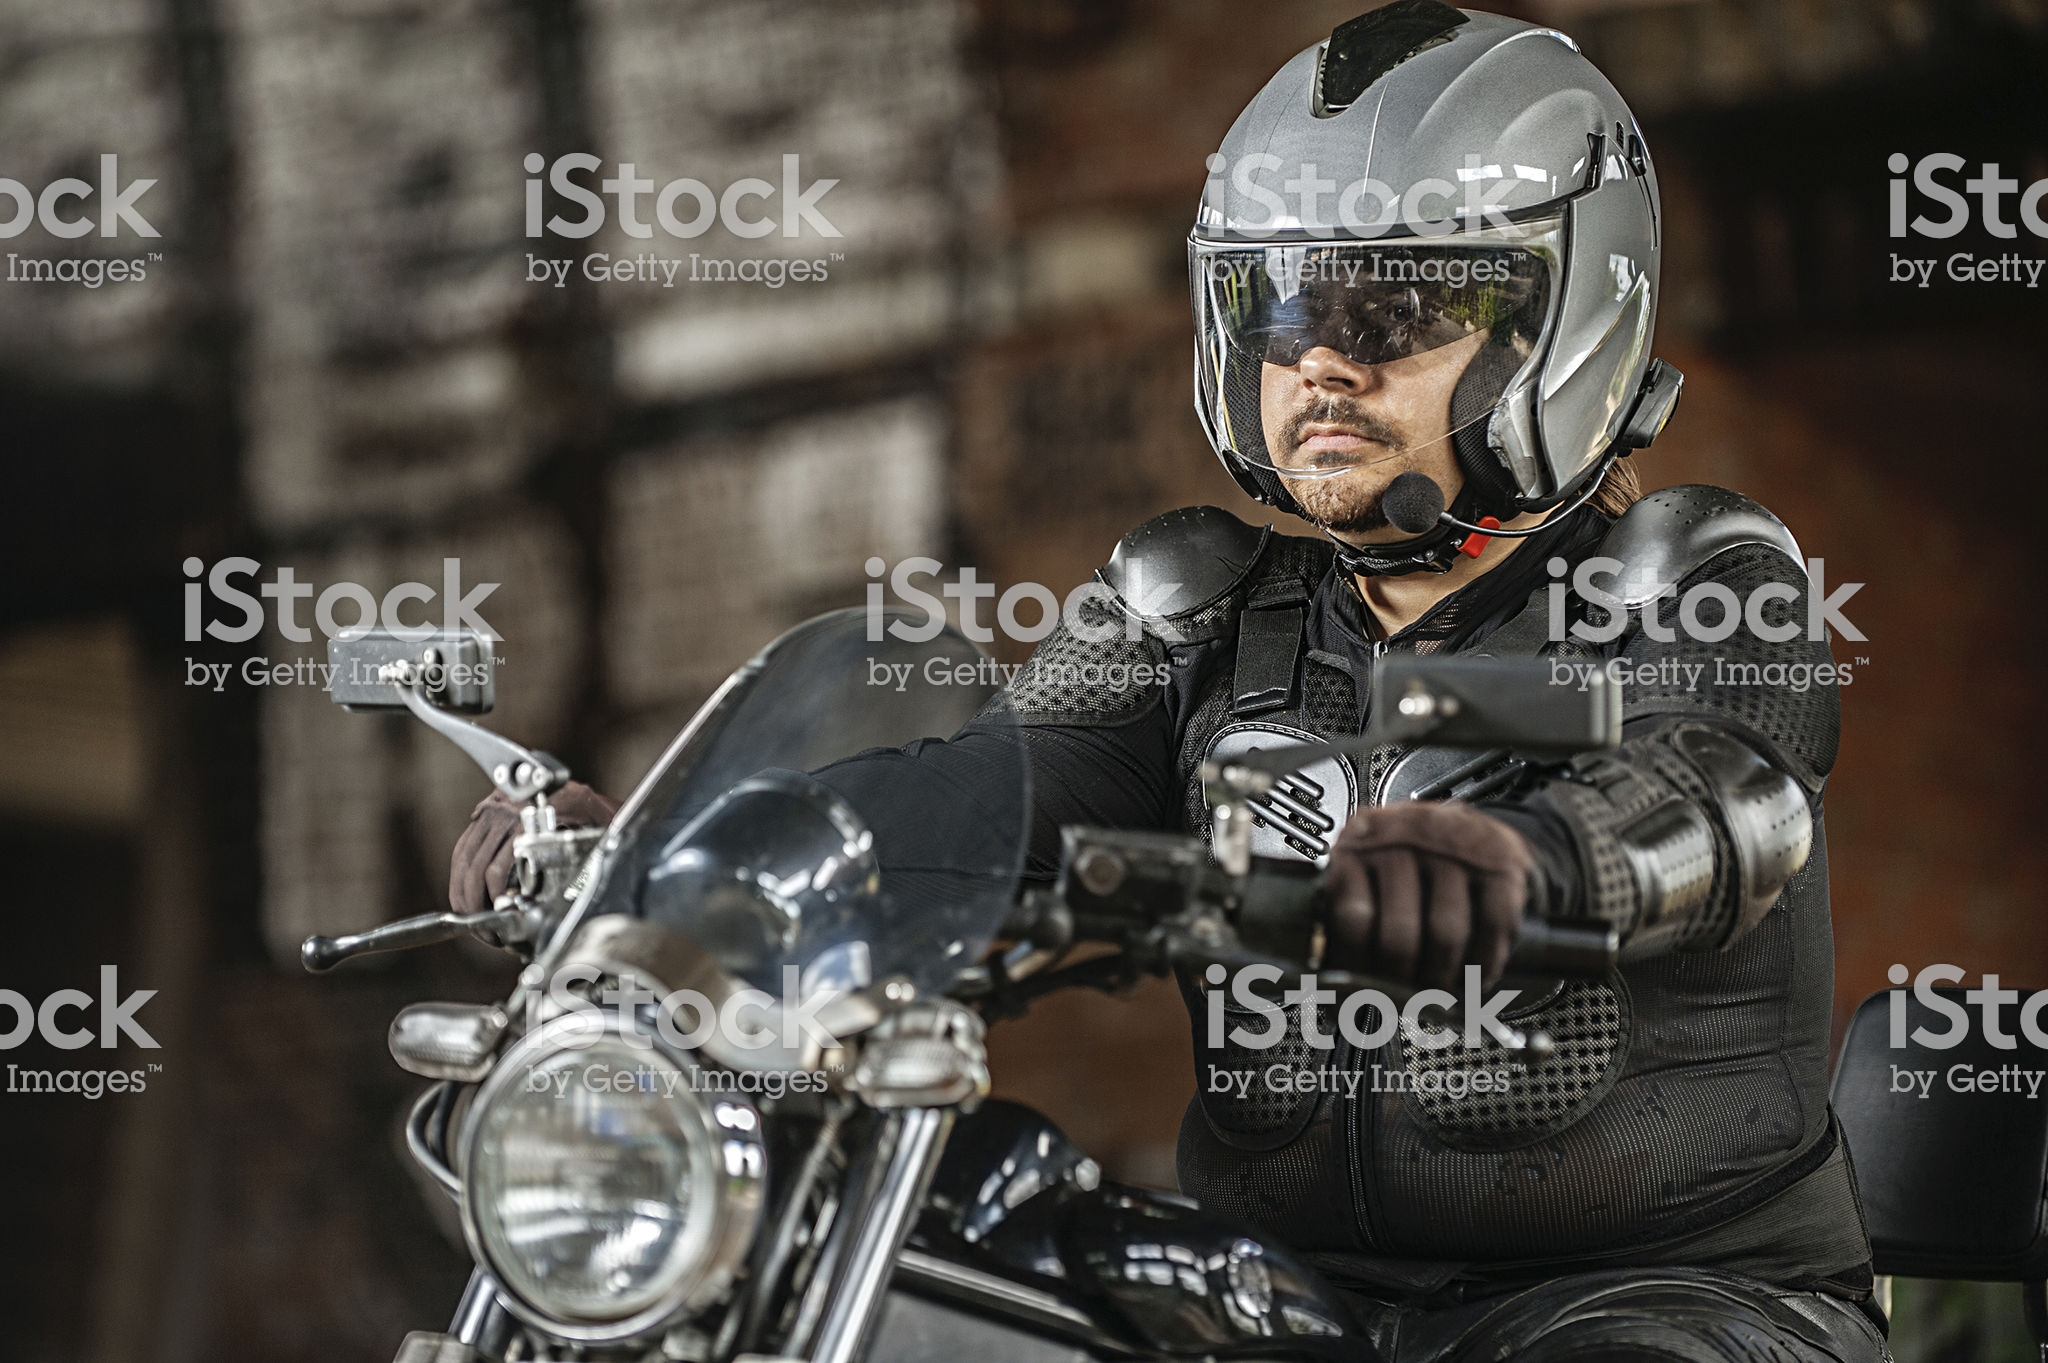helmet: (1168, 3, 1706, 485)
